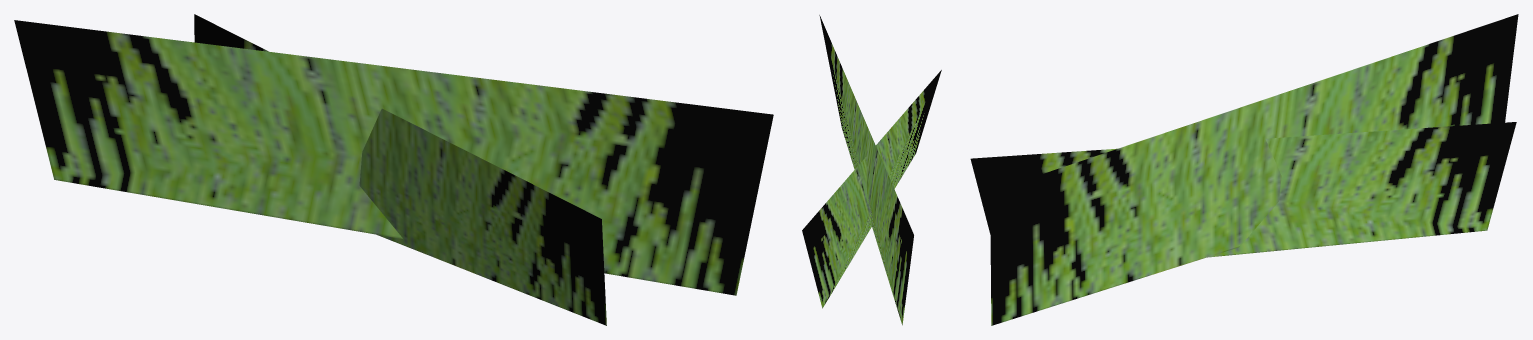
Rendered from Grass.glb.
3 renders of one model, left to right at view 1: azimuth 30°, elevation 25°; view 2: azimuth 150°, elevation 25°; view 3: azimuth 270°, elevation 25°, orthographic. The views are drawn at different scales.
Visible parts, largest first — view 1: PSX_Grass; view 2: PSX_Grass; view 3: PSX_Grass.
Boxes of the visible parts, <box> form: PSX_Grass: <box>14,14,773,325</box>; PSX_Grass: <box>802,15,941,325</box>; PSX_Grass: <box>970,14,1518,325</box>.
Bounding box in the file's own units: 1.57 × 0.6151 × 1.88.
1 material, 1 textured.
